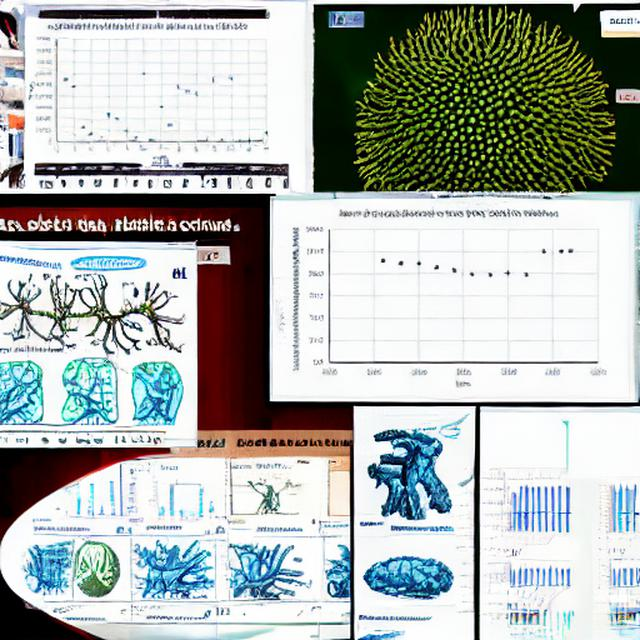Graph: (285, 204, 613, 399), (25, 21, 271, 162), (499, 557, 573, 601), (145, 480, 218, 523)
